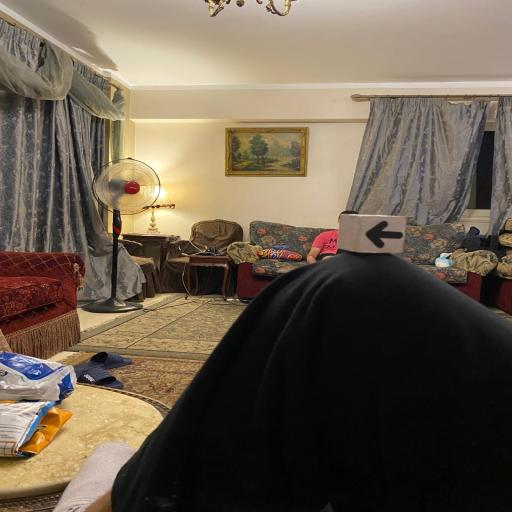Back: (338, 212, 407, 256)
